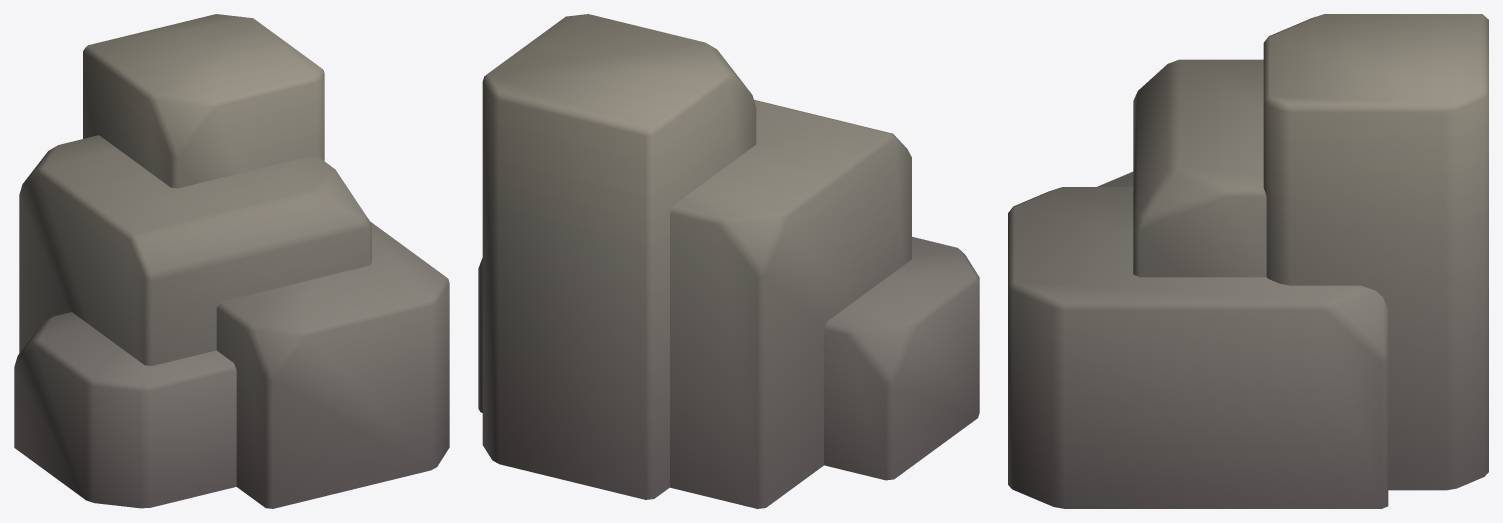
File: rock1_bevel.fbx
3 renders of one model, left to right at view 1: azimuth 30°, elevation 25°; view 2: azimuth 150°, elevation 25°; view 3: azimuth 270°, elevation 25°, orthographic. The views are drawn at different scales.
Parts seen in each view (by area): view 1: rock1; view 2: rock1; view 3: rock1.
Part boxes in pixels (<box>): rock1: <box>14,14,449,508</box>; rock1: <box>478,14,979,508</box>; rock1: <box>1008,14,1488,508</box>.
Bounding box in the file's own units: 146 × 134 × 152.
